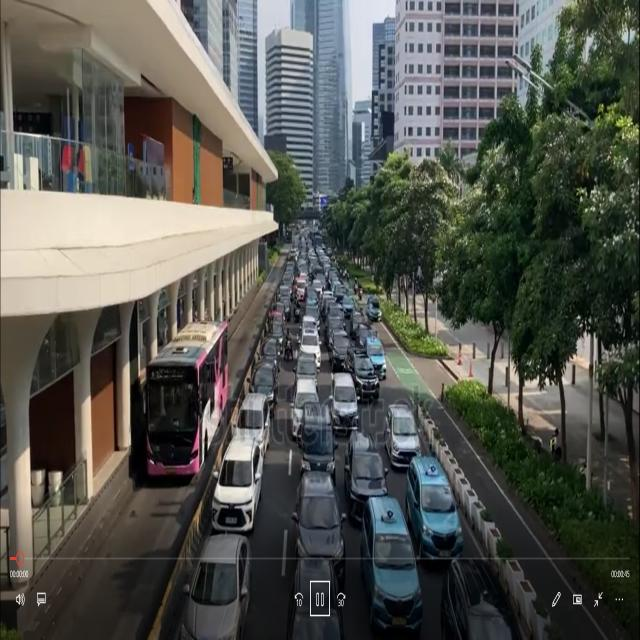Ambulance: (295, 277, 308, 307)
